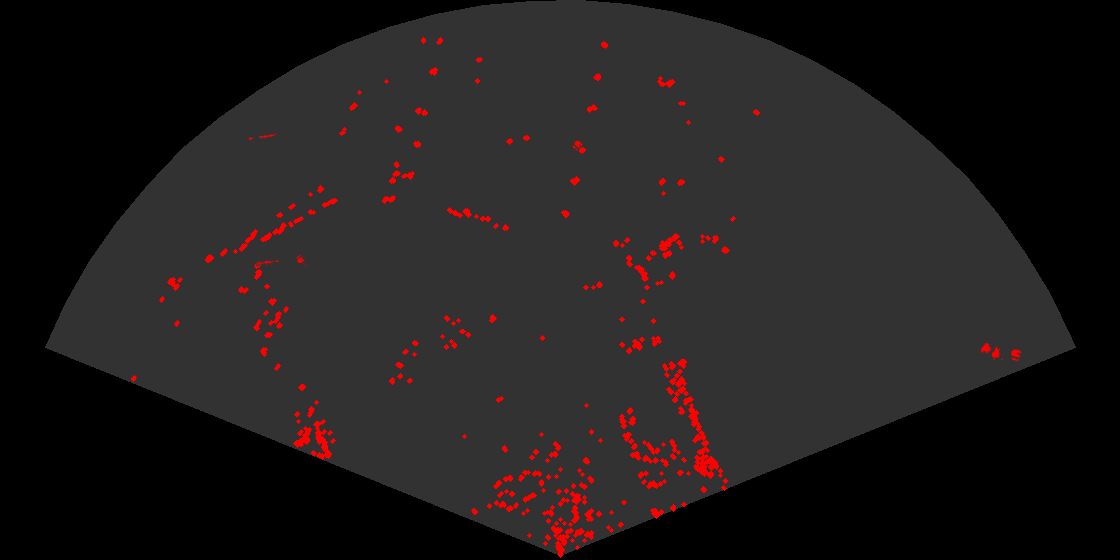ball: (1009, 348, 1023, 363), (295, 253, 308, 267), (571, 139, 584, 152)
cage: (979, 341, 1003, 360)
chain: (247, 131, 278, 142), (256, 259, 279, 266)
